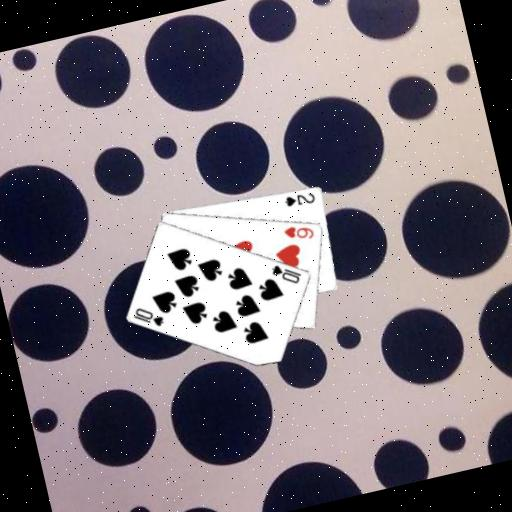10S: (128, 299, 167, 333), (267, 256, 305, 290)
2S: (281, 187, 318, 211)
6H: (280, 218, 317, 246)
